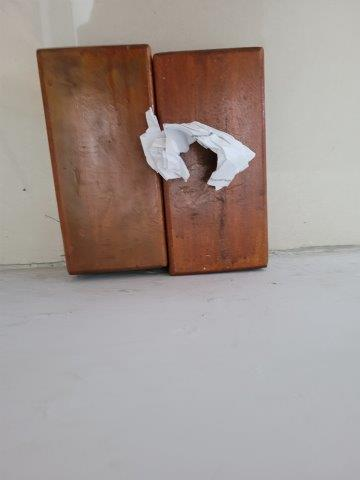kertas: (140, 108, 256, 190)
